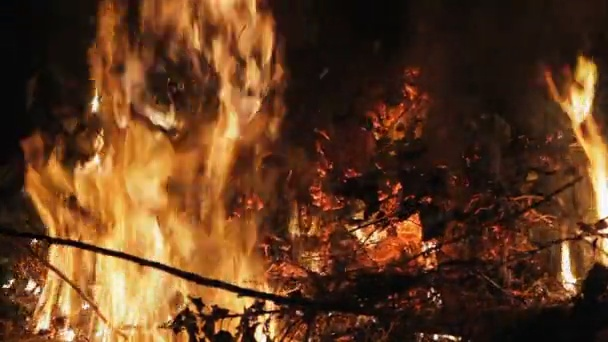fire: (22, 1, 286, 342), (551, 57, 608, 217), (560, 241, 576, 292), (355, 229, 363, 239)
